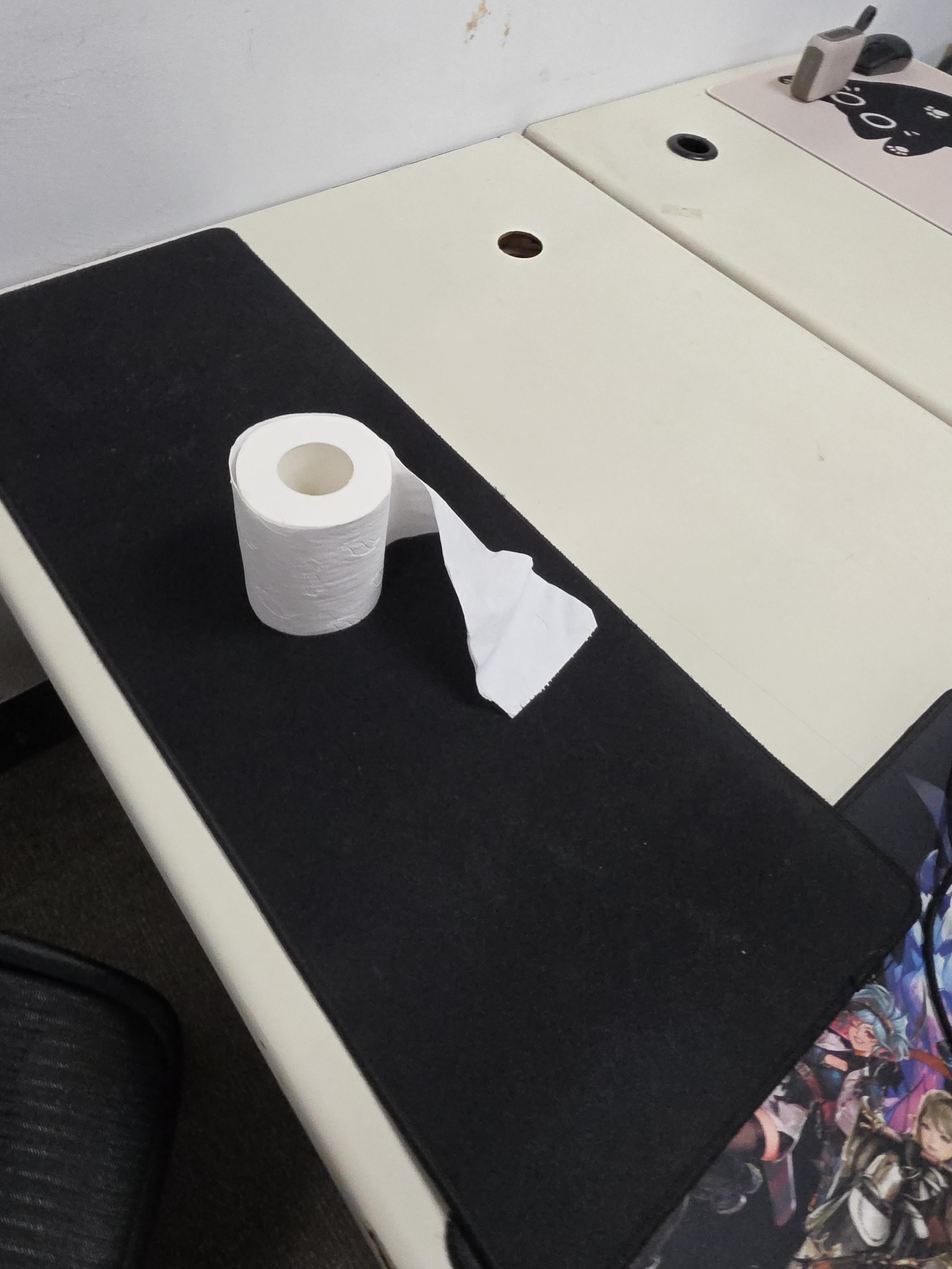tissue: (228, 412, 599, 719)
